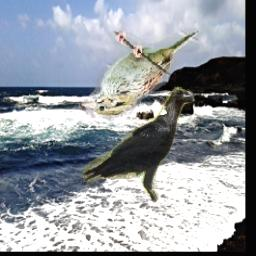Crow: (81, 87, 195, 204)
Sparrow: (79, 29, 202, 119)
